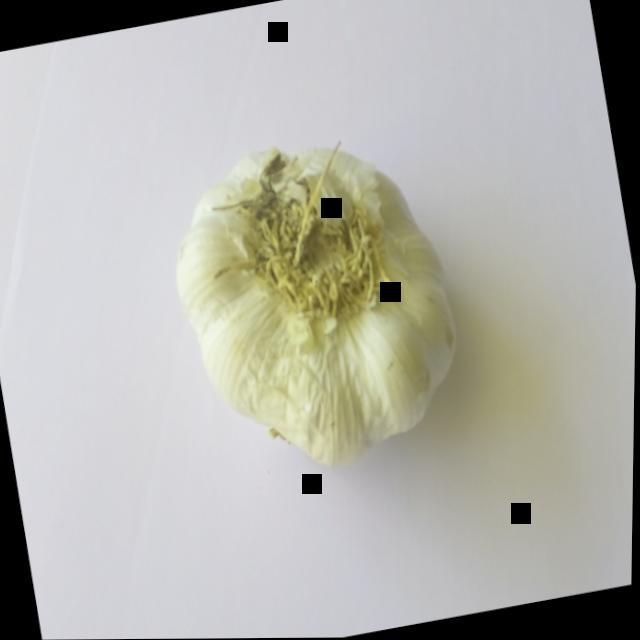Garlic: (148, 98, 491, 501)
